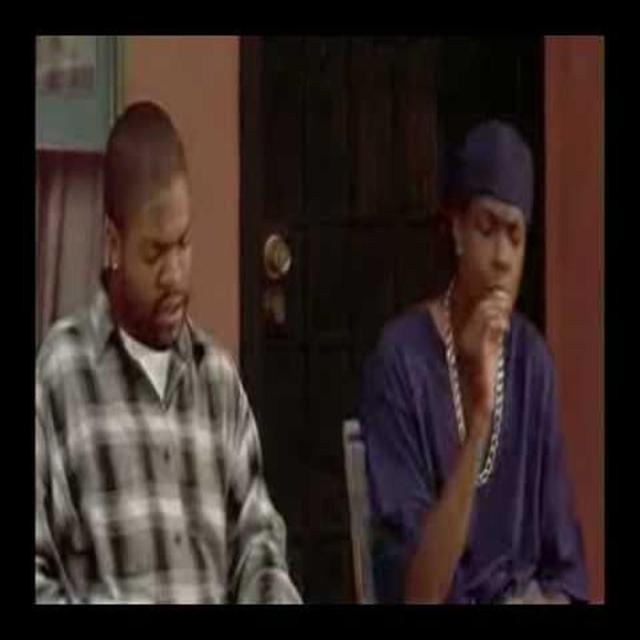smoking: (358, 117, 591, 604)
